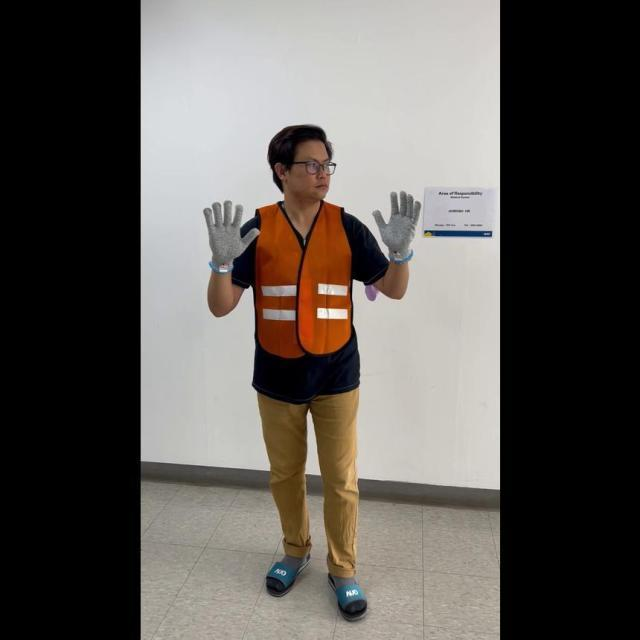gloved_hand: (200, 196, 259, 270), (369, 187, 420, 262)
